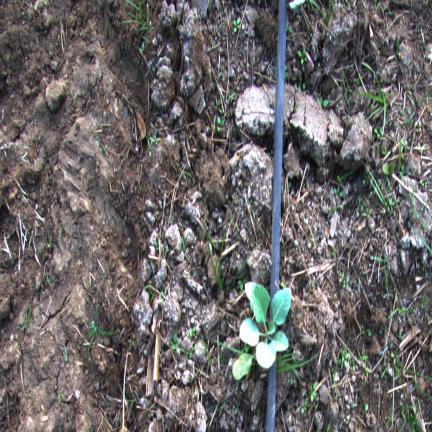crop: (239, 282, 291, 368), (233, 354, 254, 379)
